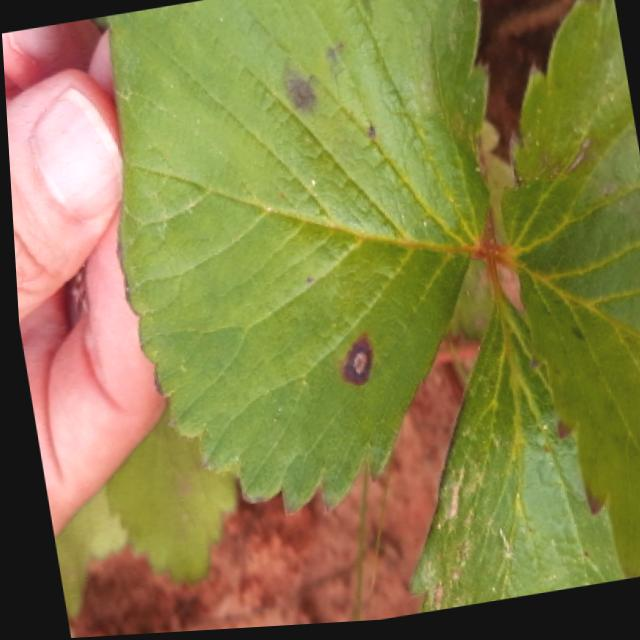Leaf Spot: (103, 0, 487, 520), (491, 0, 640, 587)
